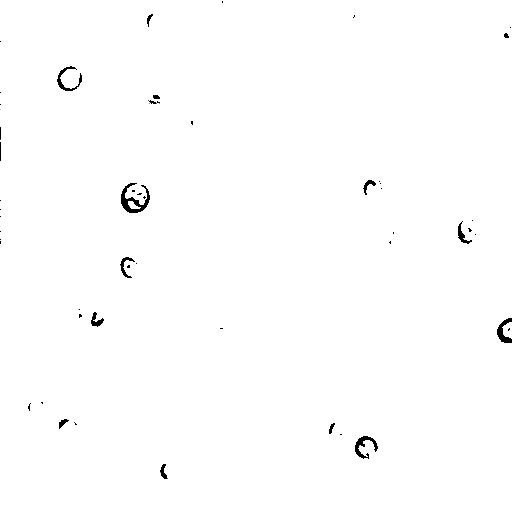micro-algae: (149, 27, 212, 90), (157, 267, 193, 303), (119, 181, 150, 216), (488, 10, 512, 55), (131, 346, 161, 378), (180, 108, 210, 137), (269, 10, 295, 38), (383, 225, 408, 253), (57, 66, 83, 91), (354, 434, 379, 460), (360, 175, 385, 200), (67, 300, 92, 324), (55, 415, 79, 440), (457, 217, 480, 243), (1, 126, 19, 158), (120, 255, 141, 280), (157, 459, 179, 482), (347, 7, 368, 31), (411, 215, 434, 236), (496, 317, 511, 345), (87, 307, 104, 328), (145, 11, 163, 30), (29, 399, 47, 418), (329, 420, 346, 437), (217, 0, 242, 11), (268, 0, 294, 9)
